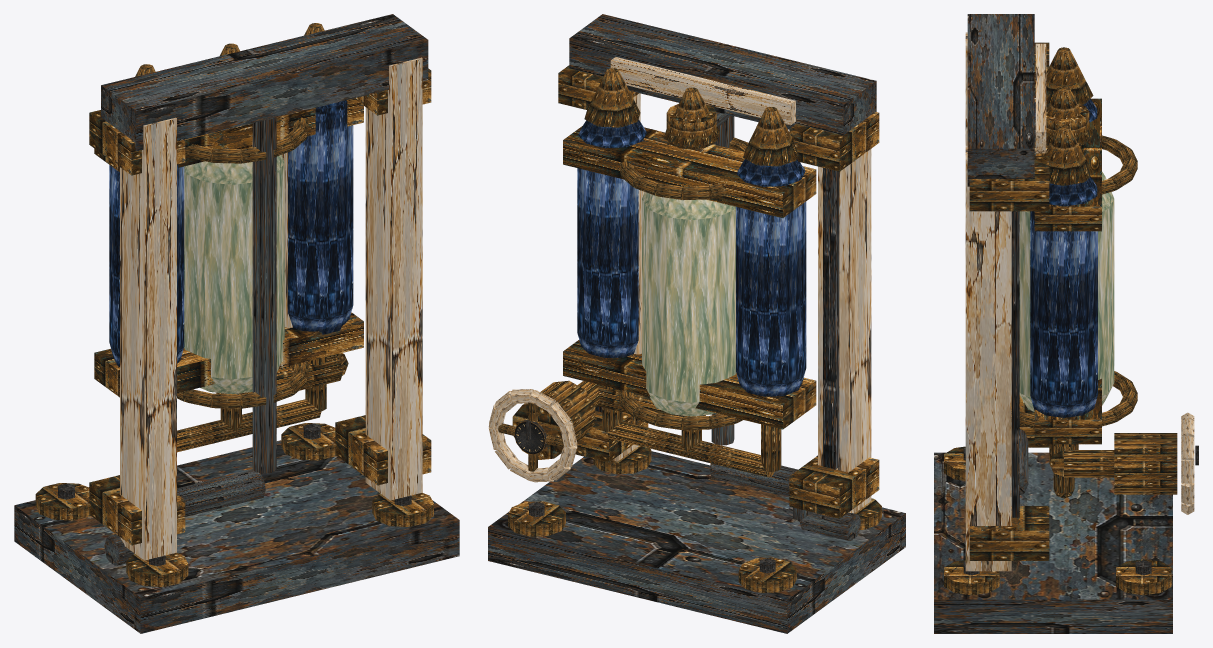
File: capillary-organ.gltf
3 renders of one model, left to right at view 1: azimuth 30°, elevation 25°; view 2: azimuth 150°, elevation 25°; view 3: azimuth 270°, elevation 25°, orthographic. The views are drawn at different scales.
Parts seen in each view (by area): view 1: FloorPlinth, RearColumn_0.32, RearColumn_-0.32, Header, StockVolume, CapillaryVessel2, RearFeed_0, Manifold0.48, CapillaryVessel0, ColumnBracket_0.32_0.22, ColumnBracket_-0.32_0.22, Manifold1.04 (+11 smaller); view 2: FloorPlinth, StockVolume, Header, CapillaryVessel0, CapillaryVessel2, RearColumn_-0.32, Manifold1.04, Manifold0.48, ColumnInset_-0.32, HeaderIvoryInlay, ColumnBracket_-0.32_0.22, ColumnBracket_-0.32_1.14 (+19 smaller); view 3: FloorPlinth, RearColumn_0.32, CapillaryVessel2, Header, StockVolume, ValveHousing, ColumnBracket_0.32_0.22, ColumnBracket_0.32_1.14, Manifold1.04, ColumnInset_0.32, Manifold0.48, NeedleCrown2 (+12 smaller).
Boxes of the visible parts, left/top/right/bottom form: FloorPlinth: left=14, top=440, right=459, bottom=633; RearColumn_0.32: left=365, top=57, right=422, bottom=500; RearColumn_-0.32: left=120, top=117, right=176, bottom=560; Header: left=101, top=14, right=428, bottom=151; StockVolume: left=184, top=155, right=284, bottom=394; CapillaryVessel2: left=288, top=100, right=353, bottom=334; RearFeed_0: left=252, top=117, right=276, bottom=473; Manifold0.48: left=94, top=312, right=363, bottom=397; CapillaryVessel0: left=109, top=164, right=184, bottom=366; ColumnBracket_0.32_0.22: left=335, top=415, right=431, bottom=485; ColumnBracket_-0.32_0.22: left=89, top=475, right=185, bottom=545; Manifold1.04: left=94, top=98, right=363, bottom=171; FloorPlinth: left=488, top=451, right=905, bottom=633; StockVolume: left=642, top=192, right=736, bottom=416; Header: left=569, top=14, right=876, bottom=135; CapillaryVessel0: left=736, top=159, right=806, bottom=396; CapillaryVessel2: left=577, top=119, right=646, bottom=357; RearColumn_-0.32: left=818, top=149, right=871, bottom=513; Manifold1.04: left=563, top=126, right=816, bottom=217; Manifold0.48: left=563, top=340, right=816, bottom=429; ColumnInset_-0.32: left=823, top=168, right=839, bottom=469; HeaderIvoryInlay: left=610, top=57, right=795, bottom=125; ColumnBracket_-0.32_0.22: left=789, top=455, right=879, bottom=518; ColumnBracket_-0.32_1.14: left=789, top=112, right=879, bottom=171; FloorPlinth: left=934, top=452, right=1172, bottom=633; RearColumn_0.32: left=965, top=145, right=1011, bottom=571; CapillaryVessel2: left=1030, top=177, right=1097, bottom=417; Header: left=967, top=14, right=1034, bottom=186; StockVolume: left=1019, top=171, right=1114, bottom=411; ValveHousing: left=1114, top=433, right=1177, bottom=494; ColumnBracket_0.32_0.22: left=969, top=506, right=1049, bottom=560; ColumnBracket_0.32_1.14: left=969, top=156, right=1049, bottom=211; Manifold1.04: left=1034, top=98, right=1101, bottom=231; ColumnInset_0.32: left=1012, top=211, right=1019, bottom=517; Manifold0.48: left=1034, top=378, right=1101, bottom=444; NeedleCrown2: left=1044, top=125, right=1093, bottom=185.
Size of the model in its own units: 0.83 by 1.26 by 0.6315.
Materials: 7 (7 with a texture image).
